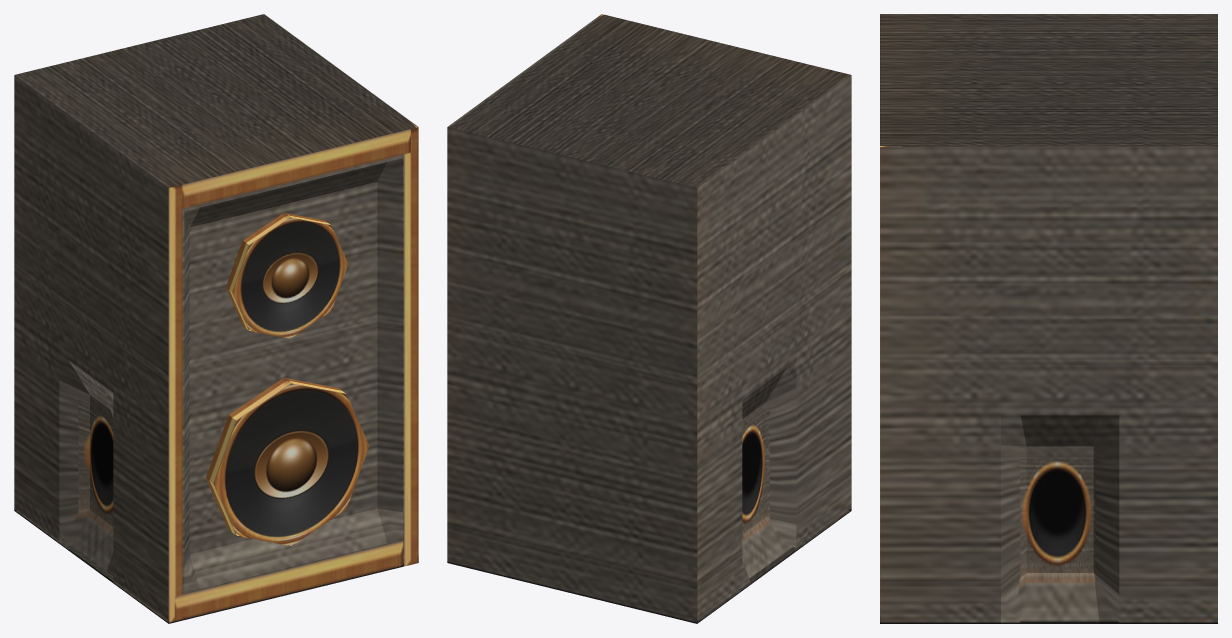
Rendered from speaker.fbx.
The picture shows the model from 3 angles, left to right: view 1: azimuth 30°, elevation 25°; view 2: azimuth 150°, elevation 25°; view 3: azimuth 270°, elevation 25°; orthographic projection. The views are drawn at different scales.
Parts seen in each view (by area): view 1: Cylinder; view 2: Cylinder; view 3: Cylinder.
Part boxes in pixels (x1,y1,x2,y2): Cylinder: [14, 14, 418, 623]; Cylinder: [447, 14, 851, 623]; Cylinder: [880, 14, 1217, 623].
Size of the model in its own units: 120 by 200 by 128.
2 materials, 2 textured.
